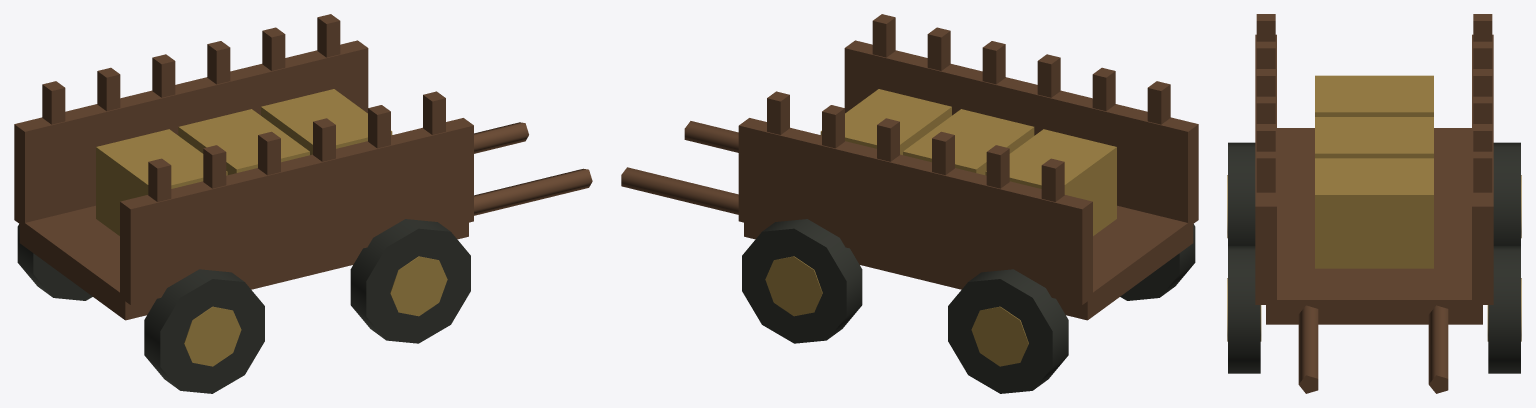
File: custom-vehicle-araba.glb
3 renders of one model, left to right at view 1: azimuth 30°, elevation 25°; view 2: azimuth 150°, elevation 25°; view 3: azimuth 270°, elevation 25°, orthographic. The views are drawn at different scales.
Parts seen in each view (by area): view 1: custom-vehicle-araba; view 2: custom-vehicle-araba; view 3: custom-vehicle-araba.
Boxes of the visible parts, x1,y1,x2,y2 form: custom-vehicle-araba: [14, 14, 592, 393]; custom-vehicle-araba: [621, 14, 1198, 393]; custom-vehicle-araba: [1227, 14, 1521, 393].
Size of the model in its own units: 1 by 0.4455 by 0.5147.
